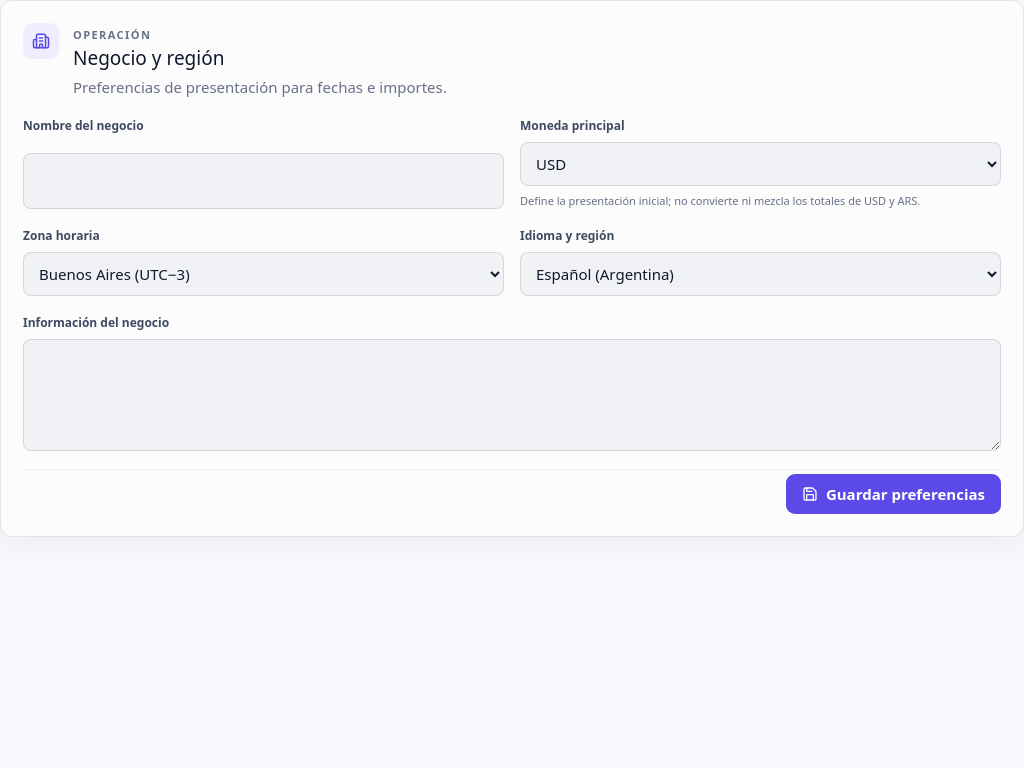
Test case: settings forms › associates every returned business field error with its control
Click the button "Guardar preferencias" at (893, 494), box x1=786 y1=474 x2=1001 y2=514
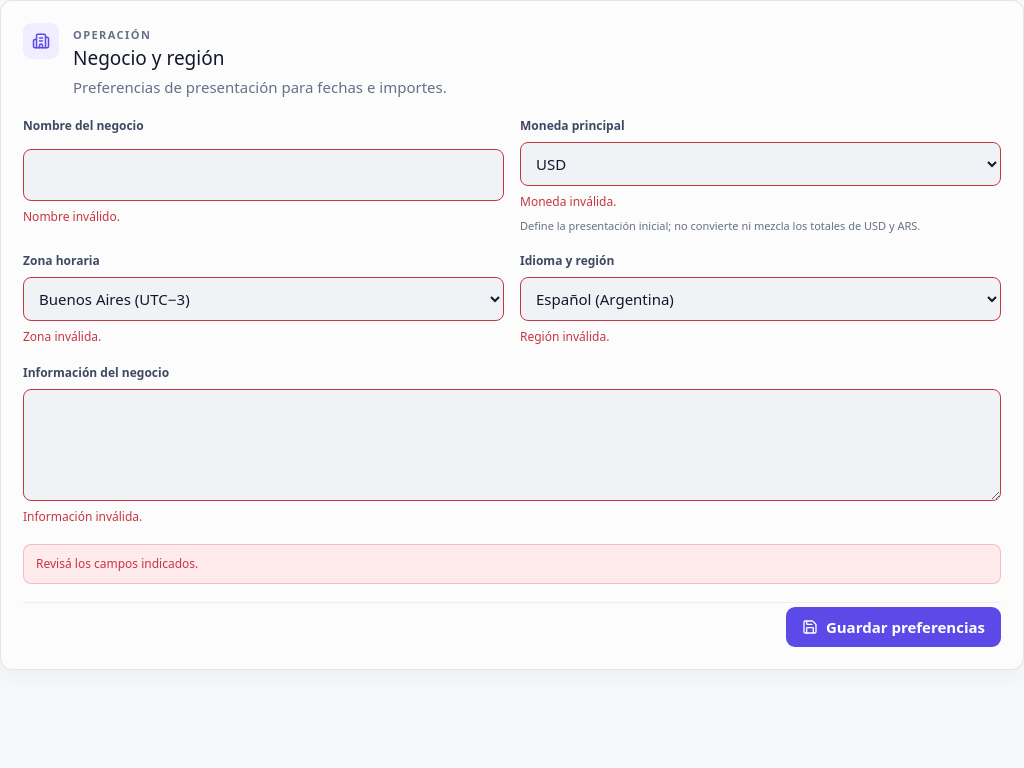
Expected: the text "Nombre inválido." is shown, x1=23 y1=208 x2=120 y2=225
Expected: the text "Moneda inválida." is shown, x1=520 y1=192 x2=616 y2=210
Expected: the text "Zona inválida." is shown, x1=23 y1=328 x2=101 y2=345
